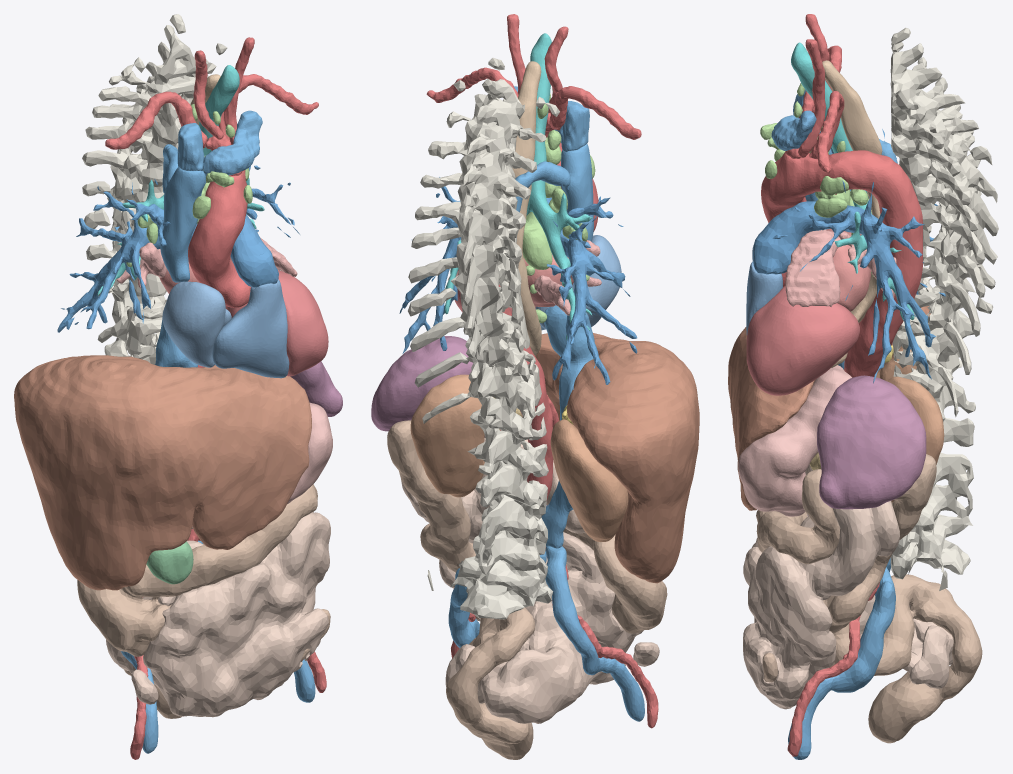
File: eus_b_anatomy.glb
3 views of the same model, side by side, from view 1: azimuth 30°, elevation 25°; view 2: azimuth 150°, elevation 25°; view 3: azimuth 270°, elevation 25° (orthographic). The views are drawn at different scales.
Visible parts, largest first — view 1: liver, small_bowel, spine, colon, pulmonary_artery, right_ventricle, aorta, right_atrium, left_ventricle, superior_vena_cava, left_brachiocephalic_vein, airway (+14 smaller); view 2: spine, liver, colon, small_bowel, pulmonary_artery, left_kidney, right_kidney, spleen, right_common_iliac_vein, airway, inferior_vena_cava, esophagus (+15 smaller); view 3: spine, small_bowel, colon, spleen, aorta, pulmonary_artery, left_ventricle, stomach, liver, left_common_iliac_vein, left_atrial_appendage, esophagus (+12 smaller).
Boxes of the visible parts, <box> form: liver: <box>14,355,311,590</box>; small_bowel: <box>106,512,330,717</box>; spine: <box>82,14,227,364</box>; colon: <box>77,484,330,718</box>; pulmonary_artery: <box>57,165,299,332</box>; right_ventricle: <box>212,279,289,378</box>; aorta: <box>188,170,250,367</box>; right_atrium: <box>162,281,231,367</box>; left_ventricle: <box>225,270,328,376</box>; superior_vena_cava: <box>160,167,205,282</box>; left_brachiocephalic_vein: <box>203,110,262,176</box>; airway: <box>97,65,264,295</box>; spine: <box>408,58,559,619</box>; liver: <box>535,333,699,583</box>; colon: <box>387,420,667,759</box>; small_bowel: <box>401,438,659,723</box>; pulmonary_artery: <box>399,177,637,389</box>; left_kidney: <box>410,374,493,497</box>; right_kidney: <box>550,419,628,541</box>; spleen: <box>371,336,473,431</box>; right_common_iliac_vein: <box>545,546,644,721</box>; airway: <box>444,33,592,340</box>; inferior_vena_cava: <box>541,305,594,548</box>; esophagus: <box>508,61,541,355</box>; spine: <box>890,27,998,590</box>; small_bowel: <box>743,464,953,709</box>; colon: <box>756,454,982,743</box>; spleen: <box>817,375,926,509</box>; aorta: <box>761,150,922,377</box>; pulmonary_artery: <box>753,129,945,383</box>; left_ventricle: <box>746,286,859,395</box>; stomach: <box>738,365,851,516</box>; liver: <box>728,306,930,510</box>; left_common_iliac_vein: <box>788,567,895,759</box>; left_atrial_appendage: <box>785,229,840,306</box>; esophagus: <box>822,60,882,367</box>.
Size of the model in its own units: 252 by 560 by 191.
